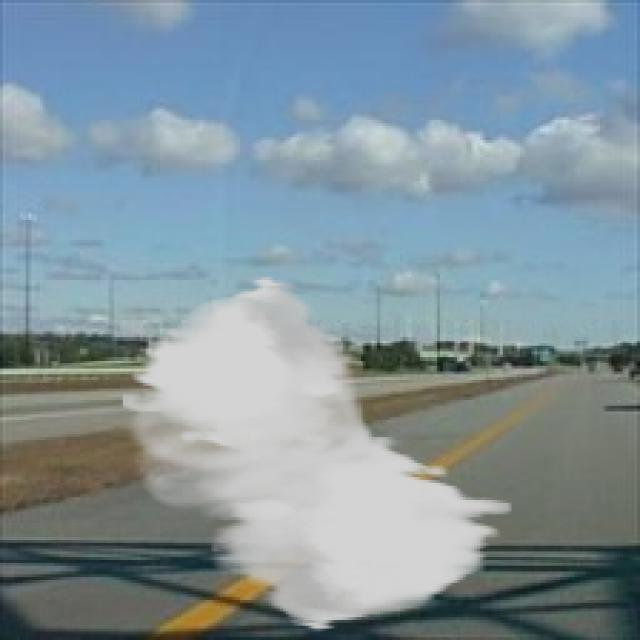smoke: (120, 274, 511, 632)
